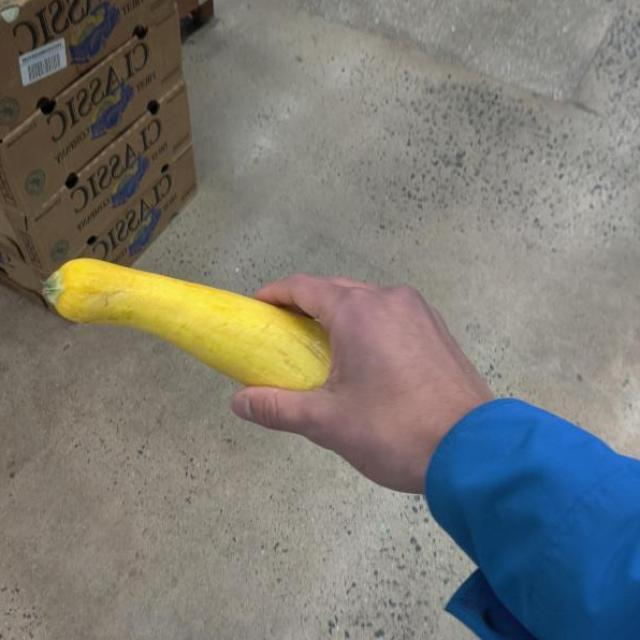Zucchini: (40, 257, 338, 401)
